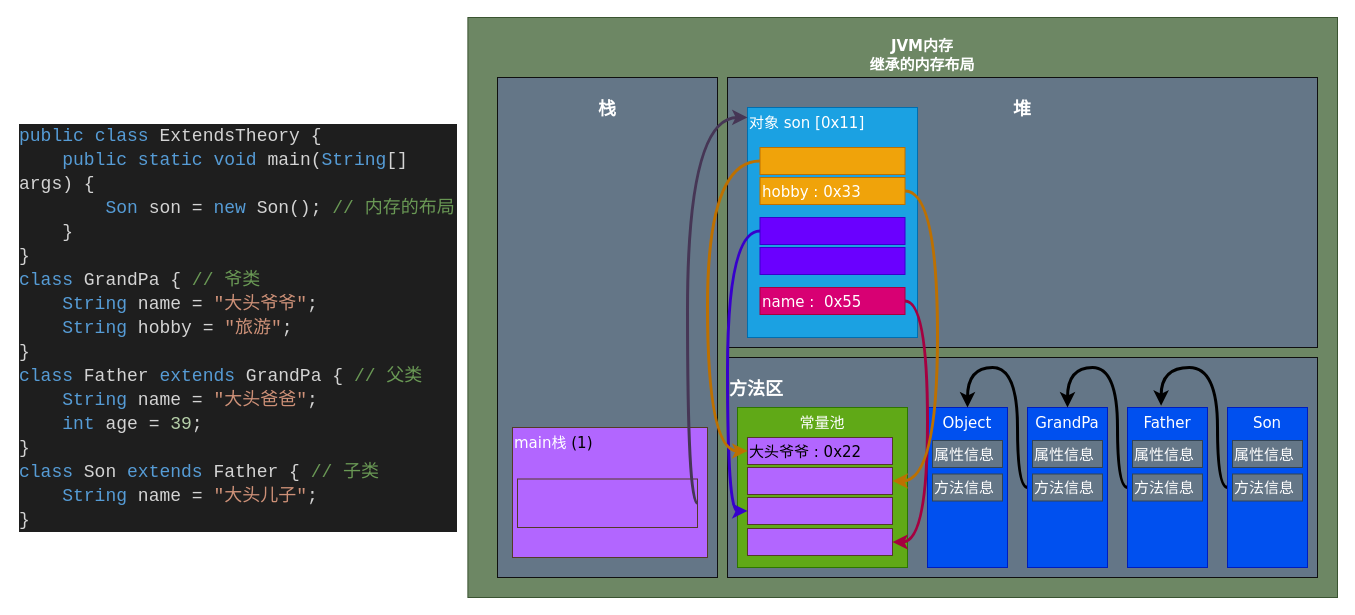
This 1355x615 diagram has some shape labels left out. Each missing label, with the centre of its shape:
age : 39: the point at 832,260
name : 0x22: the point at 832,160
name : 0x44: the point at 832,230
Son son = new Son(); son -> [0x11]: the point at 607,503
大头儿子 : 0x55: the point at 819,542
大头爸爸 : 0x44: the point at 819,510
旅游 : 0x33: the point at 819,480
